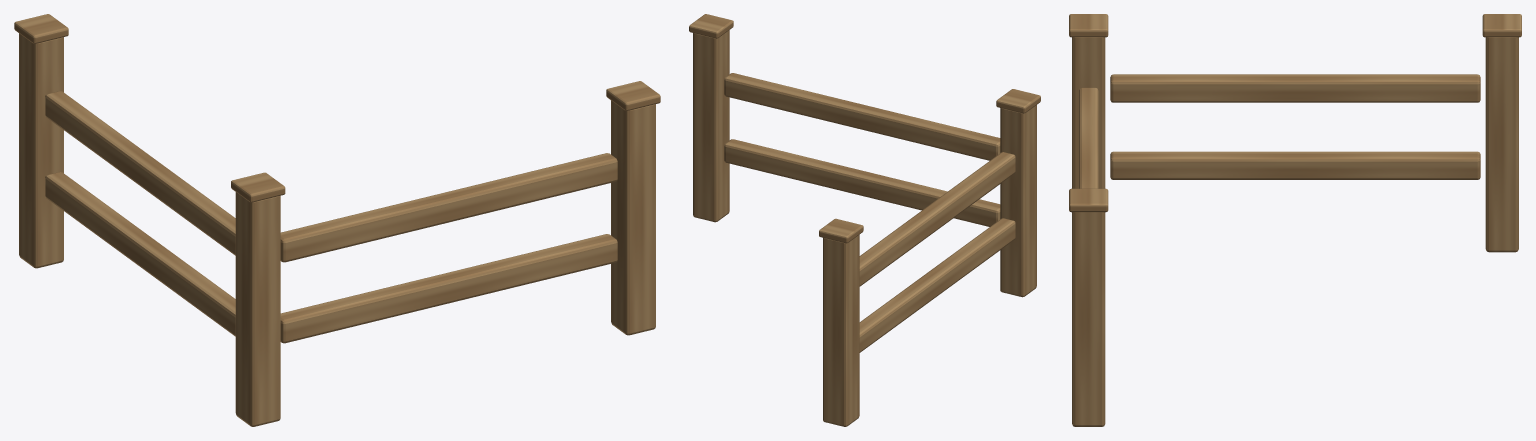
The model's file is fence_corner_2m.glb.
3 renders of one model, left to right at view 1: azimuth 30°, elevation 25°; view 2: azimuth 150°, elevation 25°; view 3: azimuth 270°, elevation 25°, orthographic. The views are drawn at different scales.
Parts seen in each view (by area): view 1: rail.002, rail.003, post.006, post.007, post.008, rail.004, rail.005, post_cap.002, post_cap.003, post_cap.004; view 2: rail.003, post.008, post.007, rail.002, post.006, rail.004, rail.005, post_cap.004, post_cap.002, post_cap.003; view 3: rail.005, rail.004, post.008, post.007, post.006, rail.003, post_cap.003, post_cap.002, post_cap.004.
Part boxes in pixels (<box>): rail.002: <box>280,234,617,343</box>; rail.003: <box>280,153,617,262</box>; post.006: <box>235,192,280,426</box>; post.007: <box>611,100,655,335</box>; post.008: <box>19,33,63,268</box>; rail.004: <box>45,172,235,336</box>; rail.005: <box>45,91,235,255</box>; post_cap.002: <box>231,172,285,202</box>; post_cap.003: <box>606,81,660,110</box>; post_cap.004: <box>14,14,68,43</box>; rail.003: <box>724,73,1000,160</box>; post.008: <box>823,235,859,426</box>; post.007: <box>693,30,729,222</box>; rail.002: <box>724,139,1000,226</box>; post.006: <box>1000,105,1036,297</box>; rail.004: <box>859,218,1015,352</box>; rail.005: <box>859,152,1015,286</box>; post_cap.004: <box>819,218,863,243</box>; post_cap.002: <box>996,89,1040,113</box>; post_cap.003: <box>689,14,733,38</box>; rail.005: <box>1110,74,1480,102</box>; rail.004: <box>1110,151,1480,179</box>; post.008: <box>1485,37,1518,252</box>; post.007: <box>1072,212,1105,426</box>; post.006: <box>1072,37,1105,188</box>; rail.003: <box>1079,87,1098,188</box>; post_cap.003: <box>1069,188,1108,212</box>; post_cap.002: <box>1069,14,1108,37</box>; post_cap.004: <box>1482,14,1521,37</box>.
Bounding box in the file's own units: 2.19 × 1.2 × 2.19.
2 materials, 2 textured.
